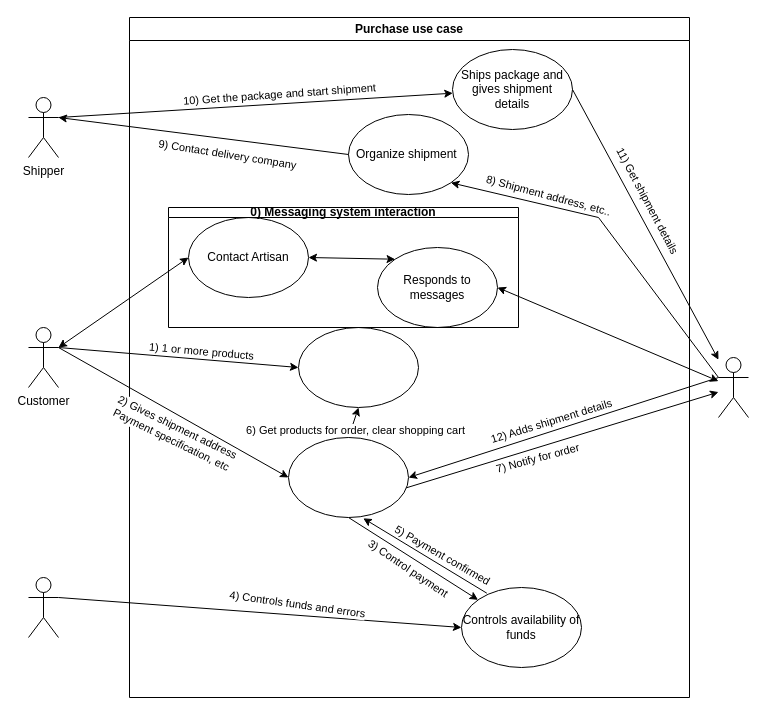
This 769x715 diagram has some shape labels left out. Here are the shapes that lost their labels. From the top down, the centre of each, then its label:
At [358,367]: "Adds product to shopping cart".
At [733,387]: "Artisan".
At [348,477]: "Finalize order".
At [43,607]: "Bank".
